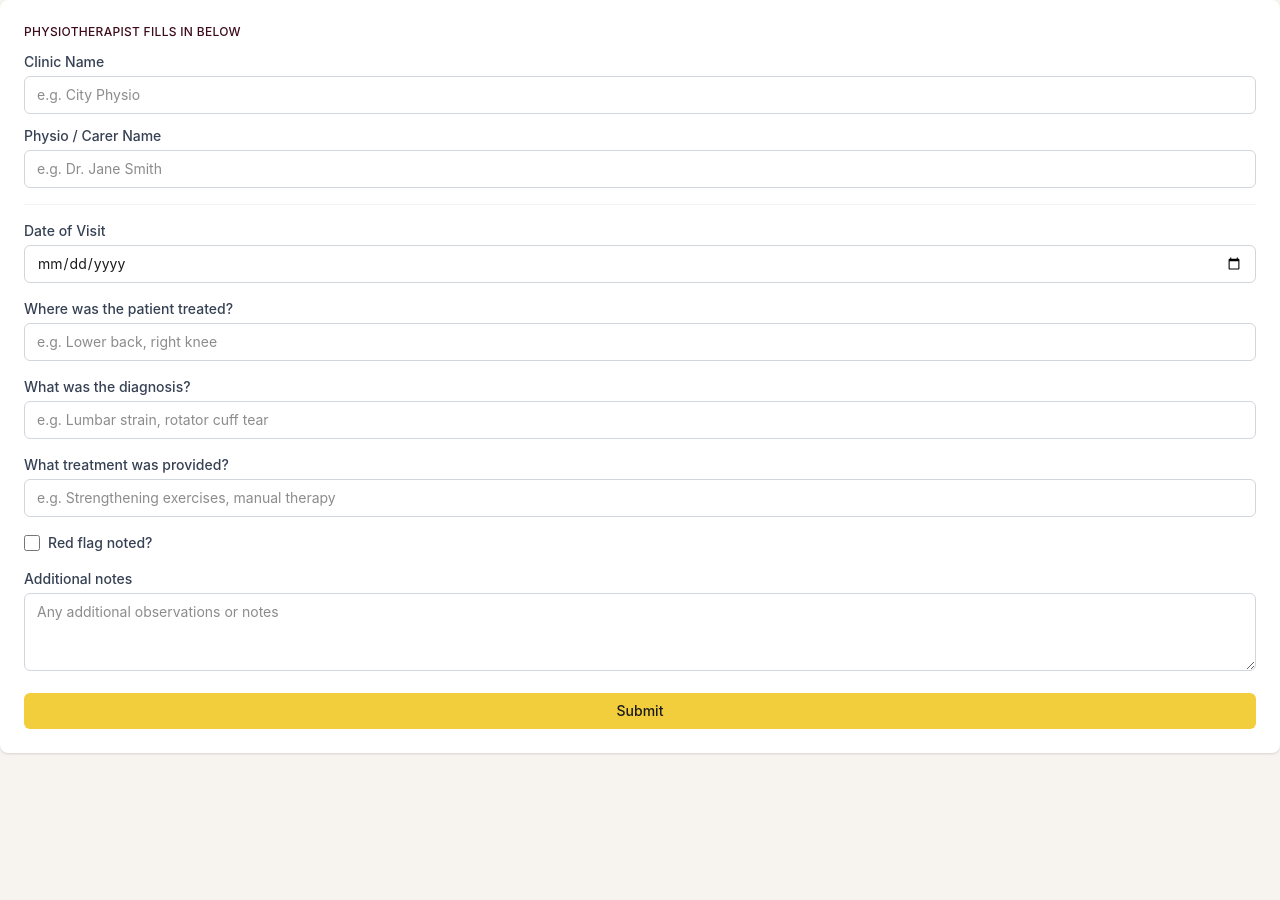
Test: PatientPresentForm › shows network error message when fetch throws
Click the button "Submit" at coordinates (640, 711), box x1=24 y1=693 x2=1256 y2=729
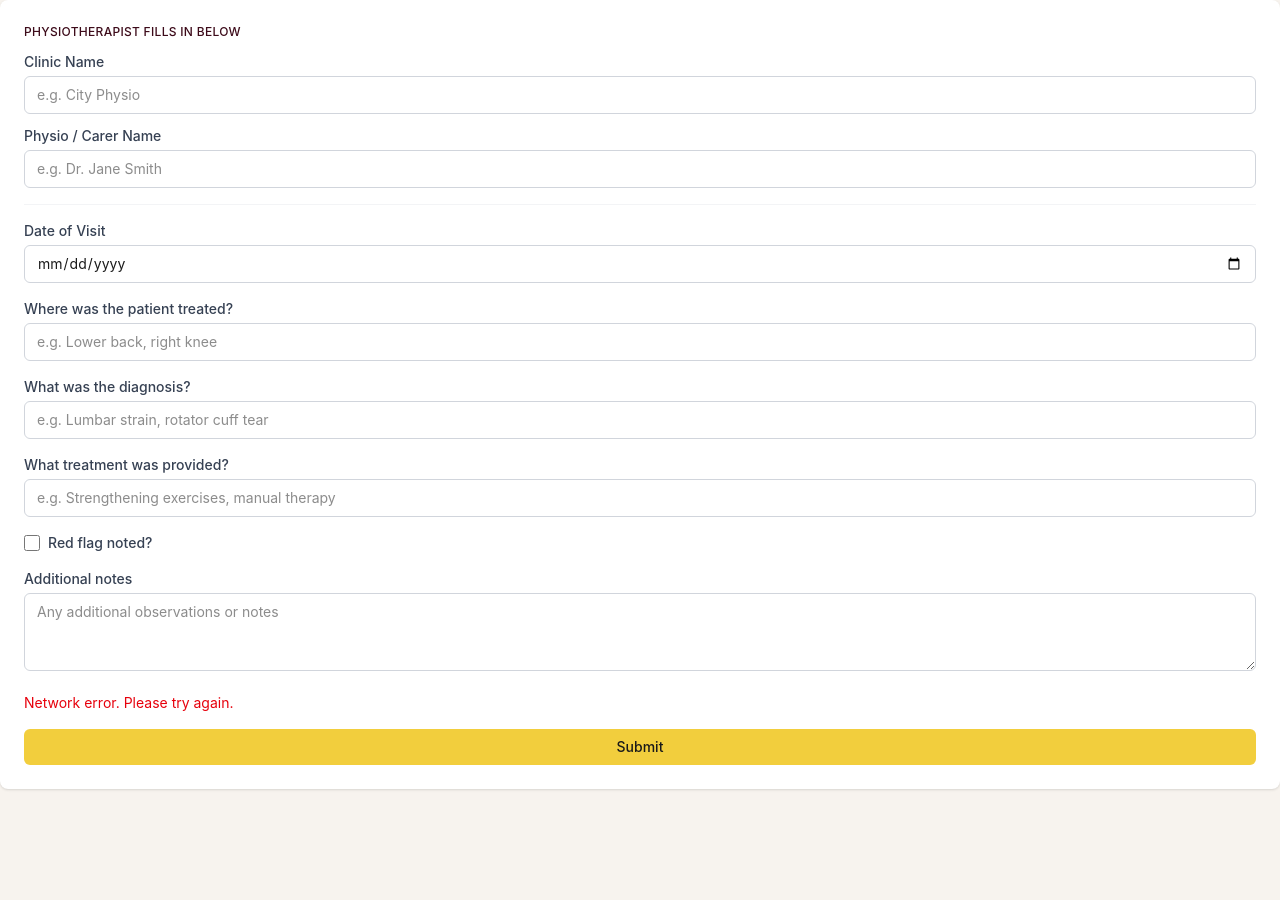
Expected: the text "Network error. Please try again." is shown, x1=24 y1=694 x2=234 y2=711
